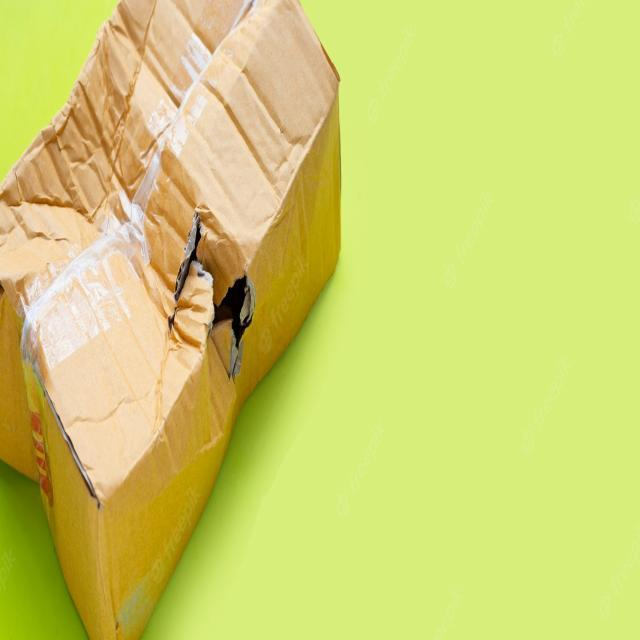hole: (152, 210, 260, 369)
